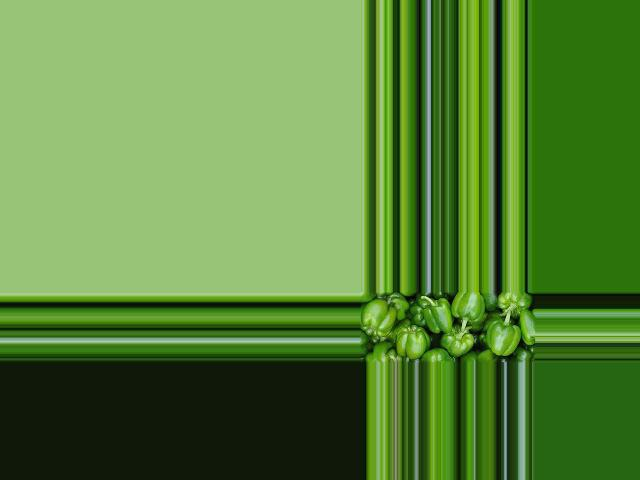bell_pepper: (360, 294, 533, 362)
